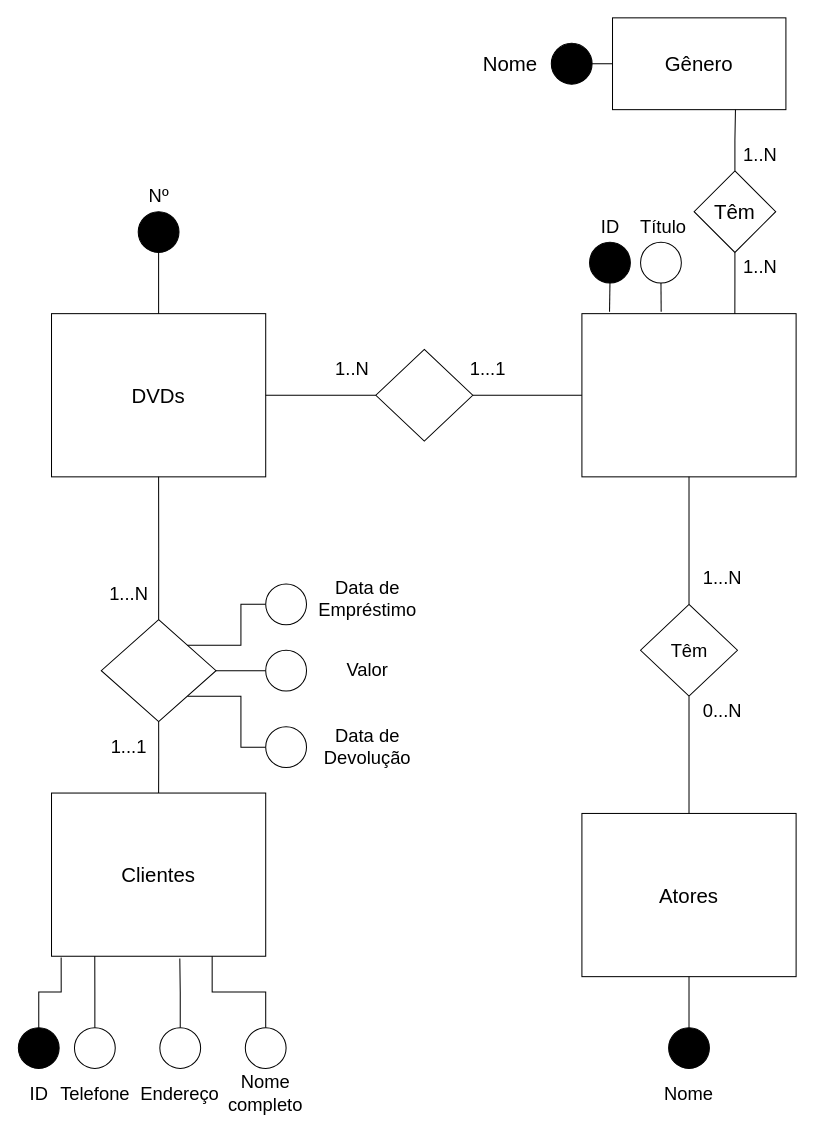
Image size: 814x1137. Some labels were removed from this diagram. Each missing label, with the centre of its shape:
"Emprestam" goes at point (158, 670).
"Filmes" goes at point (688, 395).
"Possuem" goes at point (424, 394).
